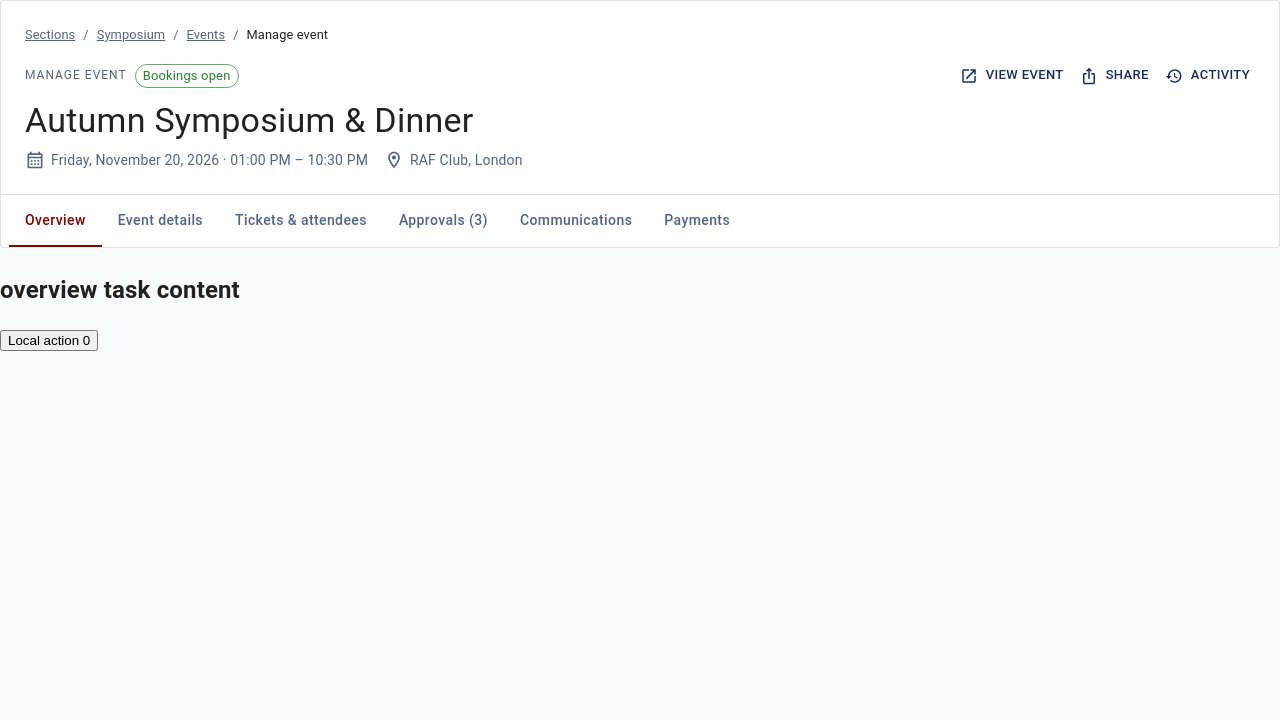
Test: Manage Event workspace › offers a selected readonly address when clipboard permission is denied
Click the button "Share". click: x=1115, y=76
box: [1077,60,1154,91]
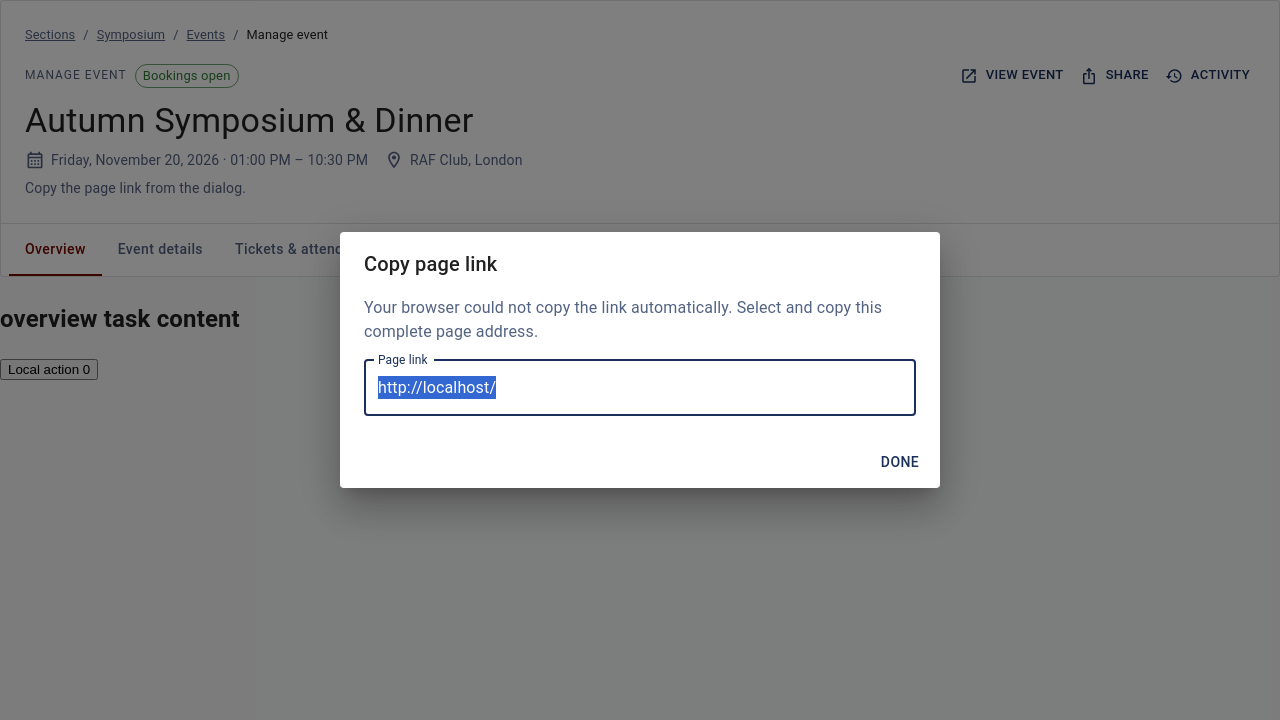
Click the button "Done". click: x=900, y=462
box: [868,444,932,480]
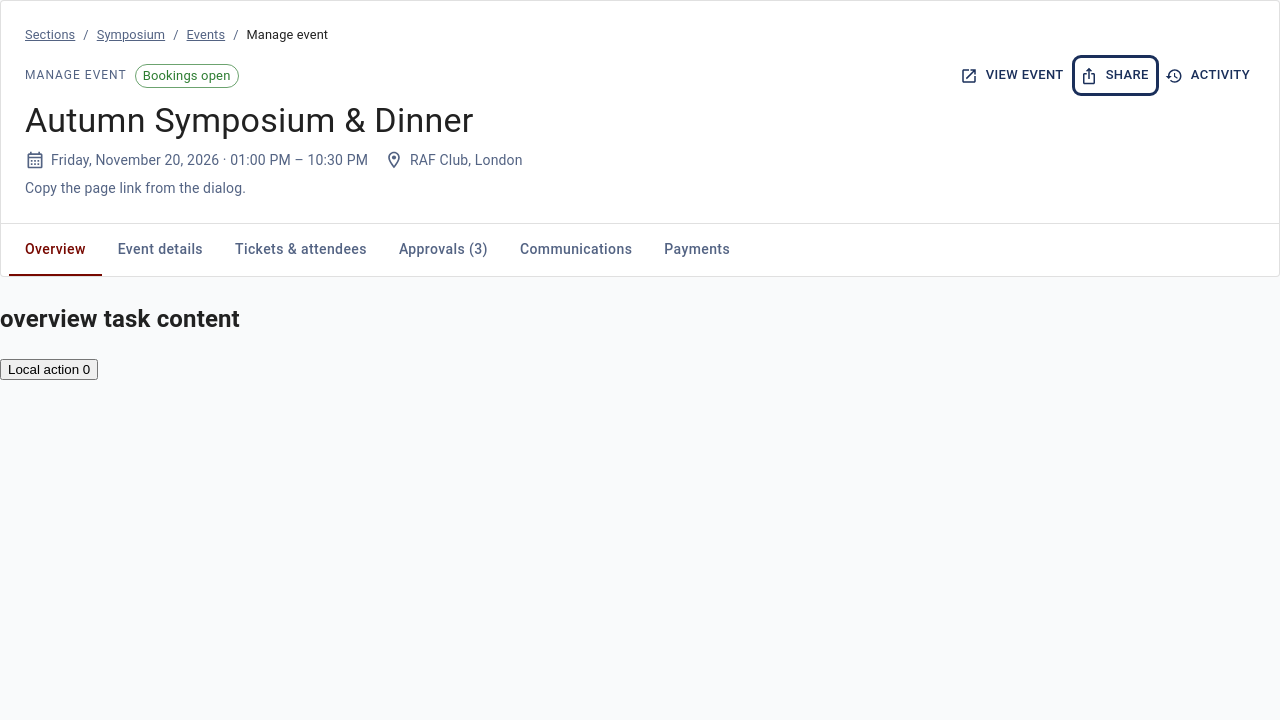
Check: the dialog is gone
